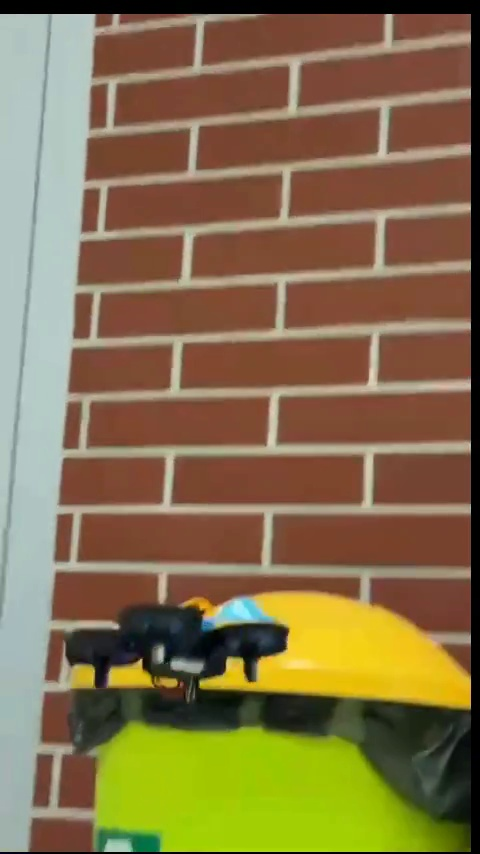drone: (68, 600, 289, 697)
